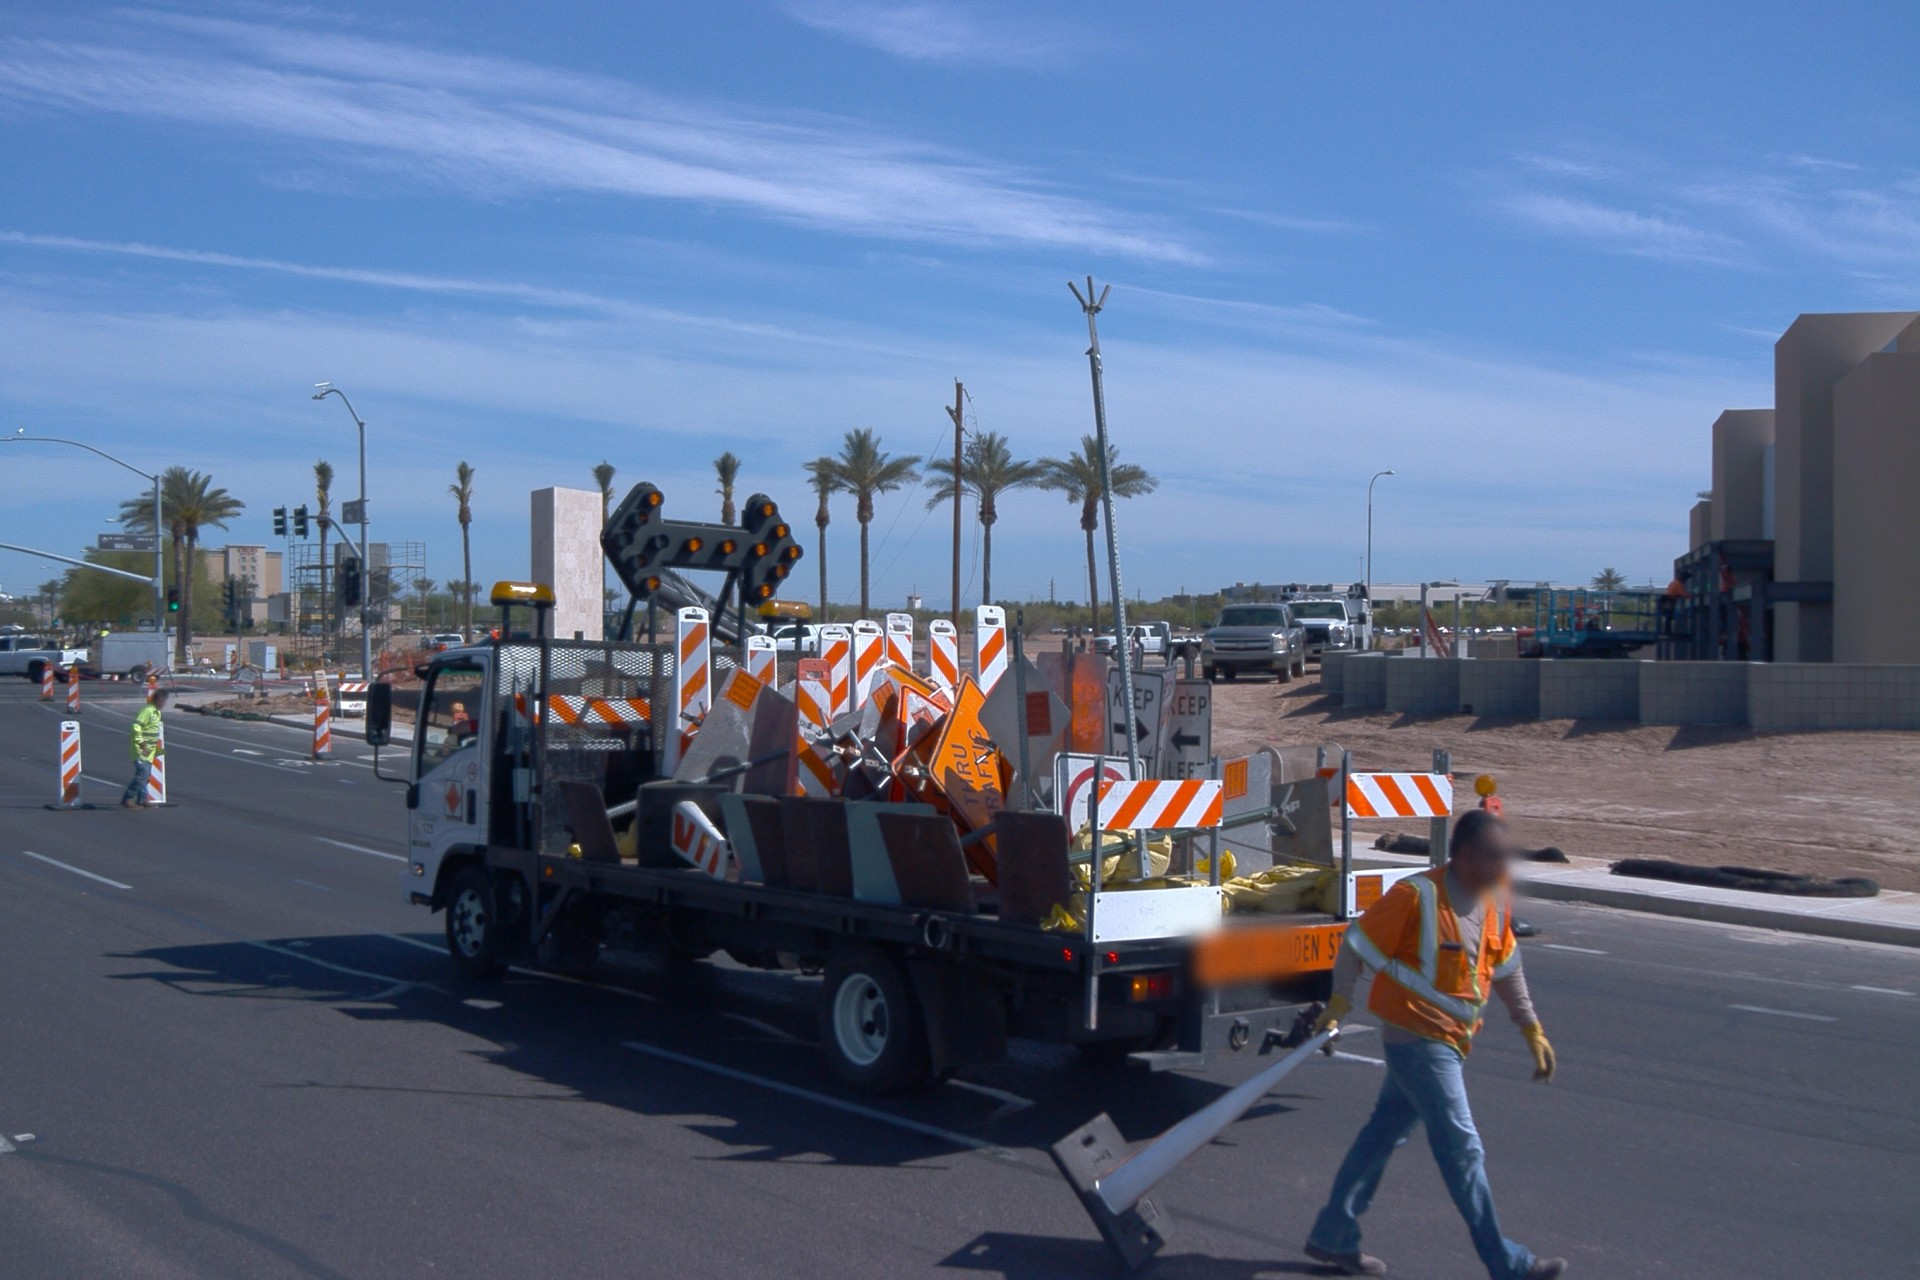TYPE_PEDESTRIAN: (1298, 809, 1570, 1279), (119, 688, 173, 811), (99, 620, 112, 637)
TYPE_VEHICLE: (365, 270, 1461, 1103), (603, 564, 769, 654), (1194, 593, 1312, 687), (1279, 574, 1382, 660), (1083, 616, 1204, 665), (0, 631, 91, 685), (98, 628, 176, 683), (761, 624, 853, 657), (443, 625, 536, 656), (67, 620, 124, 661), (427, 632, 467, 649), (305, 628, 328, 641), (1398, 629, 1420, 638), (1379, 627, 1396, 638)
